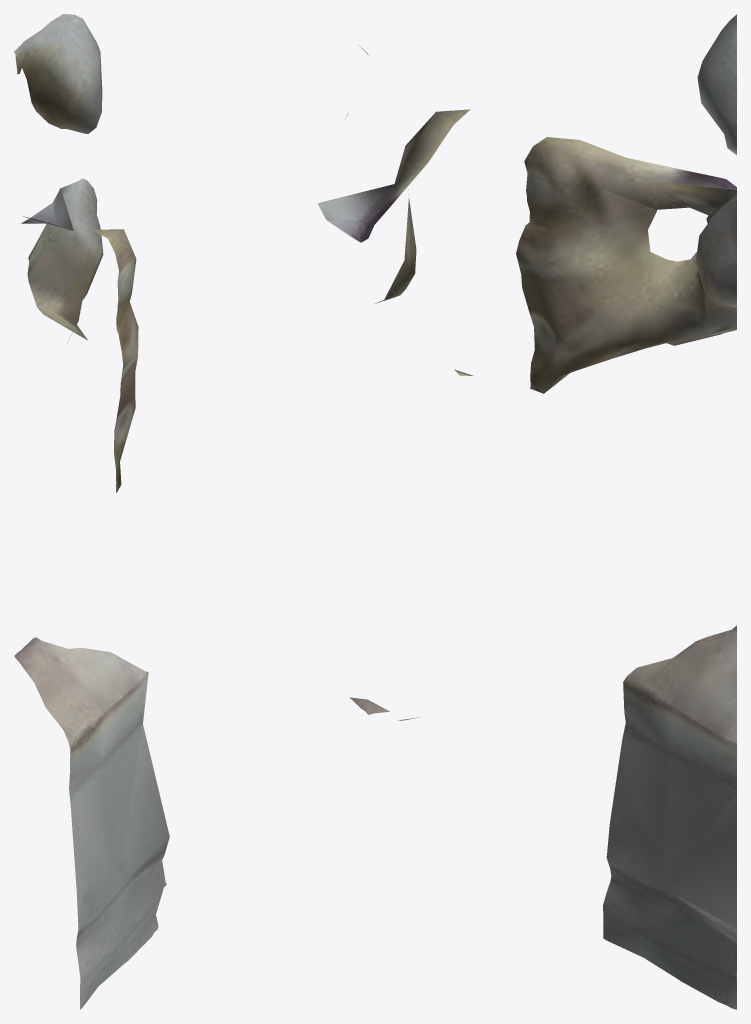
3 views of the same model, side by side, from view 1: azimuth 30°, elevation 25°; view 2: azimuth 150°, elevation 25°; view 3: azimuth 270°, elevation 25° (orthographic). The views are drawn at different scales.
Bounding box in the file's own units: 0.5491 × 3.15 × 0.6661.
1 material, 1 textured.
